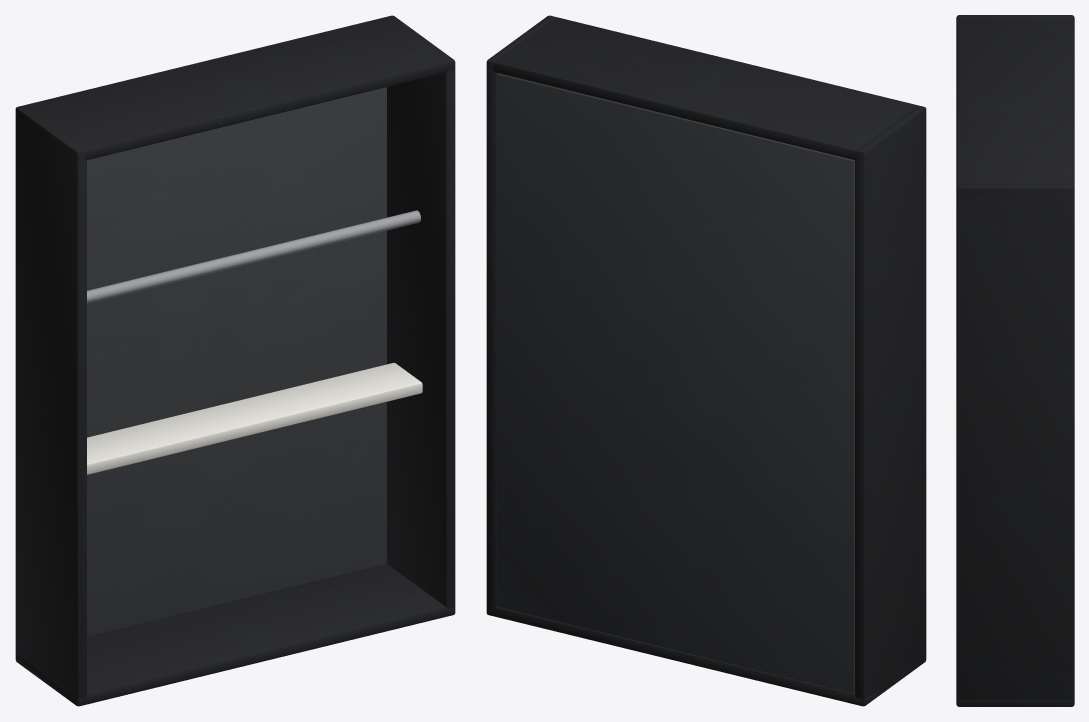
File: pf_display_golf_club_wall_t1.glb
3 views of the same model, side by side, from view 1: azimuth 30°, elevation 25°; view 2: azimuth 150°, elevation 25°; view 3: azimuth 270°, elevation 25° (orthographic). The views are drawn at different scales.
Parts seen in each view (by area): view 1: Case_Back, Case_Left, Case_Right, Case_Top, Case_Base, Club_Head_Tray_1, Club_Support_Rail_1; view 2: Case_Back, Case_Left, Case_Top, Case_Right, Case_Base; view 3: Case_Right, Case_Top, Case_Base, Case_Left.
Boxes of the visible parts, <box> form: Case_Back: <box>87,87,386,636</box>; Case_Left: <box>15,105,86,706</box>; Case_Right: <box>387,15,455,613</box>; Case_Top: <box>23,17,454,160</box>; Case_Base: <box>16,563,454,705</box>; Club_Head_Tray_1: <box>87,363,422,474</box>; Club_Support_Rail_1: <box>87,210,420,303</box>; Case_Back: <box>496,73,854,693</box>; Case_Left: <box>855,105,926,706</box>; Case_Top: <box>490,17,918,160</box>; Case_Right: <box>486,15,554,614</box>; Case_Base: <box>486,606,891,705</box>; Case_Right: <box>956,183,1074,706</box>; Case_Top: <box>956,17,1074,195</box>; Case_Base: <box>957,699,1074,706</box>; Case_Left: <box>956,15,1074,19</box>.
Bounding box in the file's own units: 1.25 × 1.75 × 0.36.
5 materials, 3 textured.
